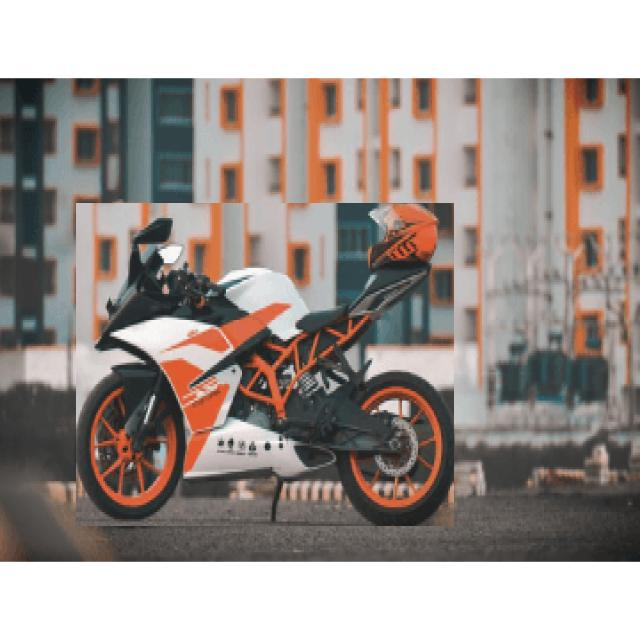motorcycle: (76, 203, 454, 526)
